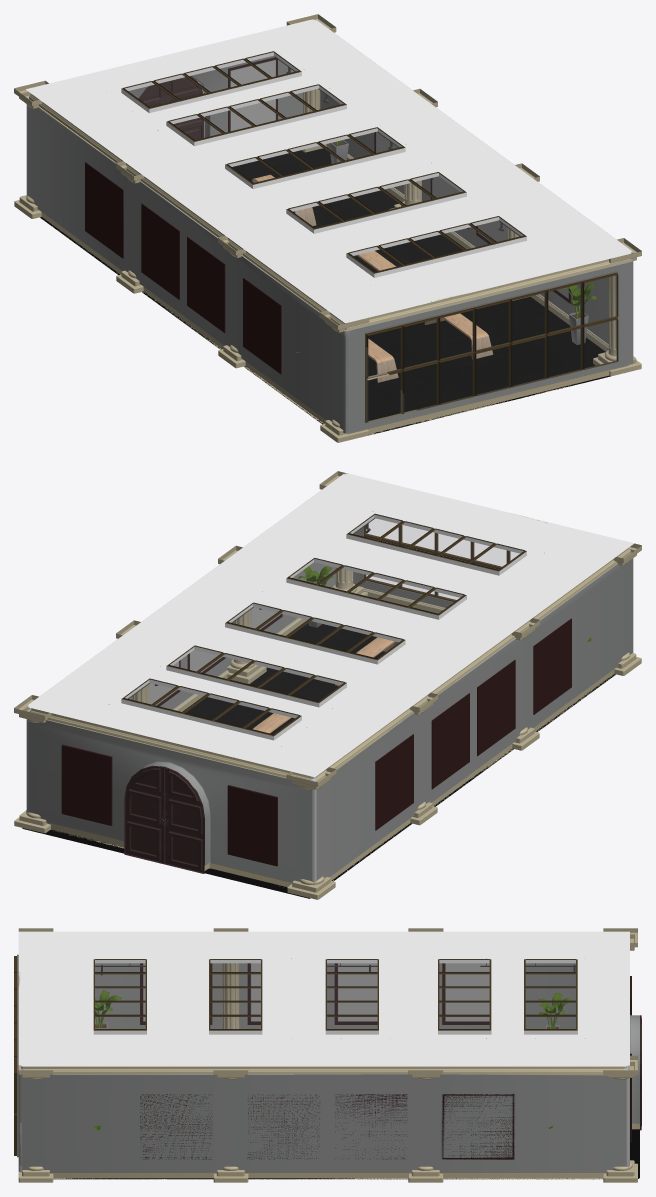
Rendered from vr_studio_gallery.glb.
The picture shows the model from 3 angles, top to bottom: view 1: azimuth 30°, elevation 25°; view 2: azimuth 150°, elevation 25°; view 3: azimuth 270°, elevation 25°; orthographic projection. The views are drawn at different scales.
Parts seen in each view (by area): view 1: Cube.004, Cube, Cube.005, Cube.001, Cube.002, Cube.003; view 2: Cube, Cube.004, Cube.005, Cube.002, Cube.001; view 3: Cube, Cube.004, Cube.005, Cube.008, Cube.006.
Boxes of the visible parts, left/top/right/bottom form: Cube.004: left=26, top=19, right=632, bottom=435; Cube: left=14, top=14, right=641, bottom=442; Cube.005: left=121, top=51, right=617, bottom=421; Cube.001: left=251, top=174, right=493, bottom=382; Cube.002: left=138, top=76, right=204, bottom=139; Cube.003: left=563, top=283, right=596, bottom=344; Cube: left=14, top=471, right=641, bottom=899; Cube.004: left=22, top=473, right=634, bottom=898; Cube.005: left=121, top=513, right=526, bottom=740; Cube.002: left=124, top=766, right=204, bottom=873; Cube.001: left=185, top=637, right=398, bottom=788; Cube: left=14, top=928, right=639, bottom=1182; Cube.004: left=18, top=931, right=639, bottom=1179; Cube.005: left=93, top=959, right=577, bottom=1034; Cube.008: left=538, top=992, right=573, bottom=1028; Cube.006: left=95, top=990, right=121, bottom=1028.
Size of the model in its own units: 8.55 by 3.32 by 15.99.
4 materials, 4 textured.
